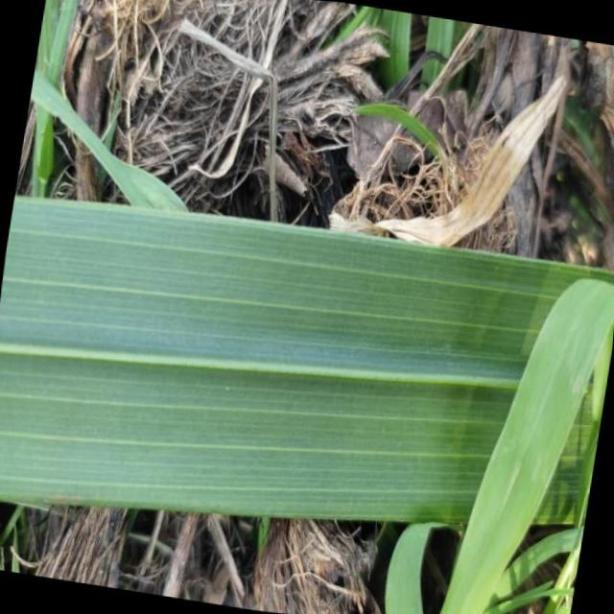Healthy: (0, 197, 603, 526)
